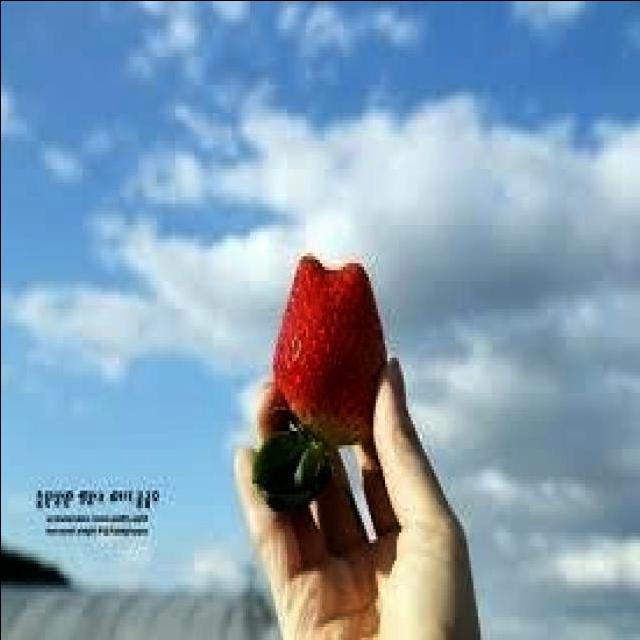strawberry: (273, 254, 387, 448)
